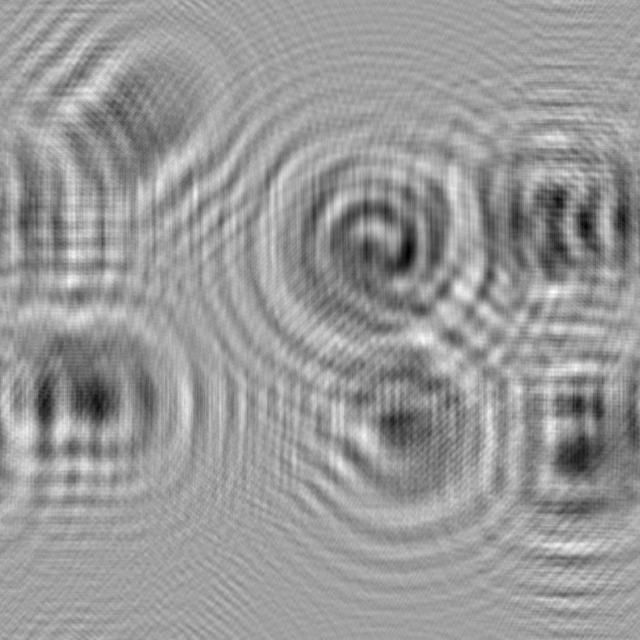F: (448, 304, 640, 590), (0, 274, 210, 526)
G: (231, 93, 506, 376)
H: (433, 67, 640, 349)
I: (19, 0, 247, 243)
J: (266, 287, 519, 559)
